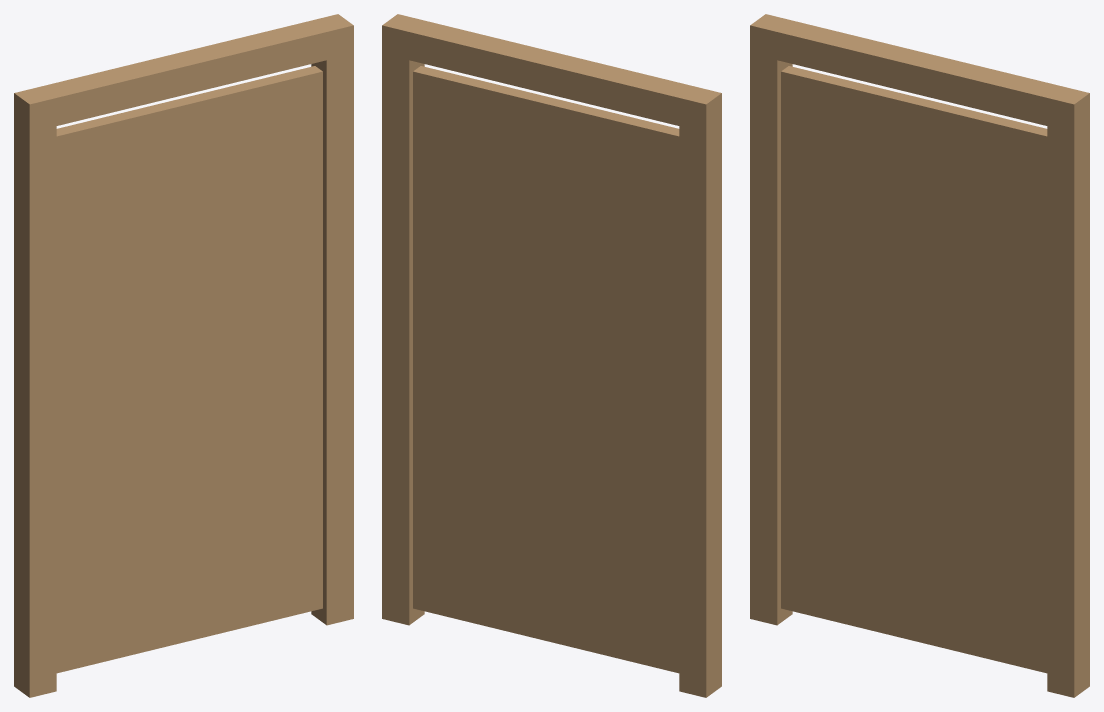
Rendered from door_open.glb.
The picture shows the model from 3 angles, left to right: view 1: azimuth 30°, elevation 25°; view 2: azimuth 150°, elevation 25°; view 3: azimuth 330°, elevation 25°; orthographic projection.
Parts seen in each view (by area): view 1: panel, left, right, top; view 2: panel, left, right, top; view 3: panel, right, left, top.
Part boxes in pixels (left/top/right/bottom): panel: left=56, top=66, right=322, bottom=673; left: left=14, top=121, right=56, bottom=697; right: left=311, top=53, right=353, bottom=625; top: left=14, top=14, right=353, bottom=132; panel: left=413, top=66, right=679, bottom=673; left: left=679, top=121, right=721, bottom=697; right: left=382, top=53, right=424, bottom=625; top: left=382, top=14, right=721, bottom=132; panel: left=781, top=66, right=1047, bottom=673; right: left=1047, top=121, right=1089, bottom=697; left: left=750, top=53, right=792, bottom=625; top: left=750, top=14, right=1089, bottom=132.
Bounding box in the file's own units: 1.2 × 2.1 × 0.1.
